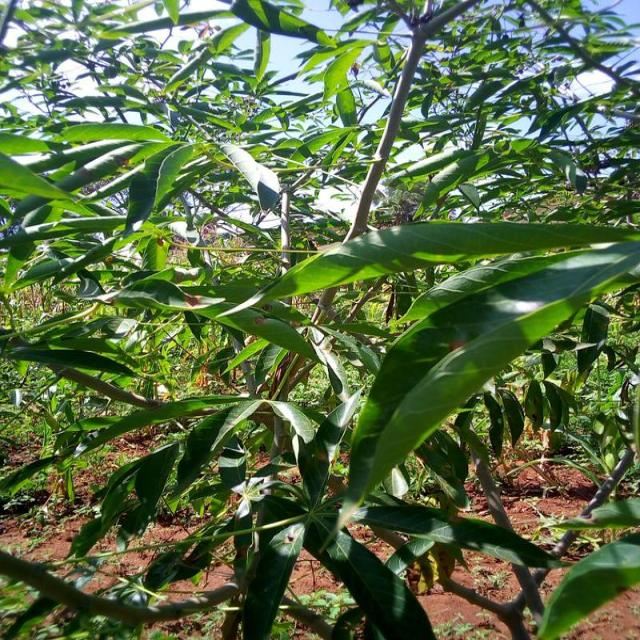cassava leaf: (336, 233, 638, 524)
